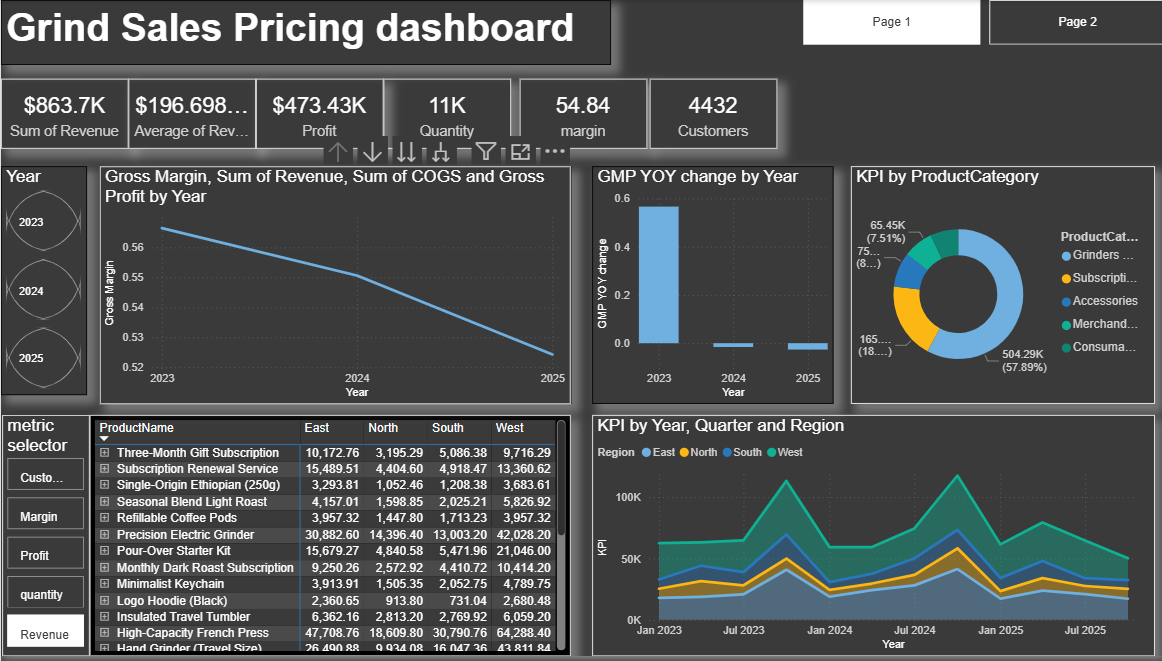

The page's visual inventory and layout, read from the dashboard file:
{"tool":"powerbi","page":{"name":"Page 1","canvas":[1280,720],"ordinal":0},"visuals":[{"type":"donutChart","fields":{"Category":["Query1.ProductCategory"],"Y":["Query1.KPI"]},"box":[933.1,182.5,333.4,260.7],"z":0},{"type":"stackedAreaChart","fields":{"Series":["Query1.Region"],"Y":["Query1.KPI"],"Category":["Calender.Date.Variation.Date Hierarchy.Year","Calender.Date.Variation.Date Hierarchy.Quarter"]},"box":[649.1,455.6,617.5,264.8],"z":1000},{"type":"pivotTable","fields":{"Columns":["Query1.Region"],"Rows":["Query1.ProductName","Query1.OrderDate.Variation.Date Hierarchy.Year"],"Values":["Query1.KPI"]},"box":[97.4,455.6,528.3,264.8],"z":2000},{"type":"card","fields":{"Values":["Sum(Query1.Revenue)"]},"box":[0,86.4,140,76.8],"z":3000},{"type":"card","fields":{"Values":["Avg(Query1.Revenue)"]},"box":[140,86.4,140,76.8],"z":4000},{"type":"card","fields":{"Values":["Sum(Query1.Quantity)"]},"box":[419.9,86.4,140,76.8],"z":5000},{"type":"card","fields":{"Values":["Query1.margin"]},"box":[569.5,86.4,140,76.8],"z":6000},{"type":"card","fields":{"Values":["CountNonNull(Query1.CustomerID)"]},"box":[712.2,86.4,140,76.8],"z":7000},{"type":"card","fields":{"Values":["Sum(Query1.Profit)"]},"box":[279.9,86.4,140,76.8],"z":8000},{"type":"advancedSlicerVisual","fields":{"Values":["Calender.Date.Variation.Date Hierarchy.Year"]},"box":[0,182.5,94.7,251.1],"z":9000},{"type":"advancedSlicerVisual","fields":{"Values":["metric selector.metric selector"]},"box":[1.4,455.6,96.1,264.8],"z":10000},{"type":"textbox","box":[0,0,669.6,71.4],"z":11000},{"type":"pageNavigator","box":[881,0,399.3,49.4],"z":12000},{"type":"lineChart","fields":{"Category":["Calender.Date.Variation.Date Hierarchy.Year","Calender.Date.Variation.Date Hierarchy.Quarter","Calender.Date.Variation.Date Hierarchy.Month","Calender.Date.Variation.Date Hierarchy.Day"],"Y":["Query1.Cross Margin"]},"box":[108.4,182.5,517.3,260.7],"z":13000},{"type":"clusteredColumnChart","fields":{"Category":["Calender.Date.Variation.Date Hierarchy.Year","Calender.Date.Variation.Date Hierarchy.Quarter","Calender.Date.Variation.Date Hierarchy.Month","Calender.Date.Variation.Date Hierarchy.Day"],"Y":["Query1.GMP YOY change"]},"box":[649.1,182.5,264.8,260.7],"z":14000}]}

Visuals, with their boxes in screenshot pixels (x1, y1, x2, y2), scaled from the page's 1280x720 canvas onto the 1162x661 screenshot:
donutChart - Query1.ProductCategory x Query1.KPI: {"x1": 847, "y1": 168, "x2": 1150, "y2": 407}
stackedAreaChart - Query1.Region x Query1.KPI: {"x1": 589, "y1": 418, "x2": 1150, "y2": 660}
pivotTable - Query1.Region x Query1.ProductName: {"x1": 88, "y1": 418, "x2": 568, "y2": 660}
card - Sum(Query1.Revenue): {"x1": 0, "y1": 79, "x2": 127, "y2": 150}
card - Avg(Query1.Revenue): {"x1": 127, "y1": 79, "x2": 254, "y2": 150}
card - Sum(Query1.Quantity): {"x1": 381, "y1": 79, "x2": 508, "y2": 150}
card - Query1.margin: {"x1": 517, "y1": 79, "x2": 644, "y2": 150}
card - CountNonNull(Query1.CustomerID): {"x1": 647, "y1": 79, "x2": 774, "y2": 150}
card - Sum(Query1.Profit): {"x1": 254, "y1": 79, "x2": 381, "y2": 150}
advancedSlicerVisual - Calender.Date.Variation.Date Hierarchy.Year: {"x1": 0, "y1": 168, "x2": 86, "y2": 398}
advancedSlicerVisual - metric selector.metric selector: {"x1": 1, "y1": 418, "x2": 89, "y2": 660}
textbox: {"x1": 0, "y1": 0, "x2": 608, "y2": 66}
pageNavigator: {"x1": 800, "y1": 0, "x2": 1161, "y2": 45}
lineChart - Calender.Date.Variation.Date Hierarchy.Year x Calender.Date.Variation.Date Hierarchy.Quarter: {"x1": 98, "y1": 168, "x2": 568, "y2": 407}
clusteredColumnChart - Calender.Date.Variation.Date Hierarchy.Year x Calender.Date.Variation.Date Hierarchy.Quarter: {"x1": 589, "y1": 168, "x2": 830, "y2": 407}
